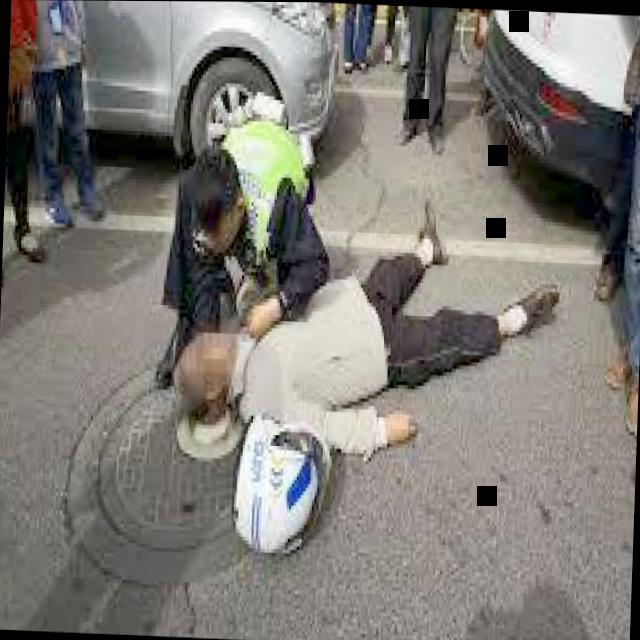Fall-Detected: (164, 168, 567, 483)
